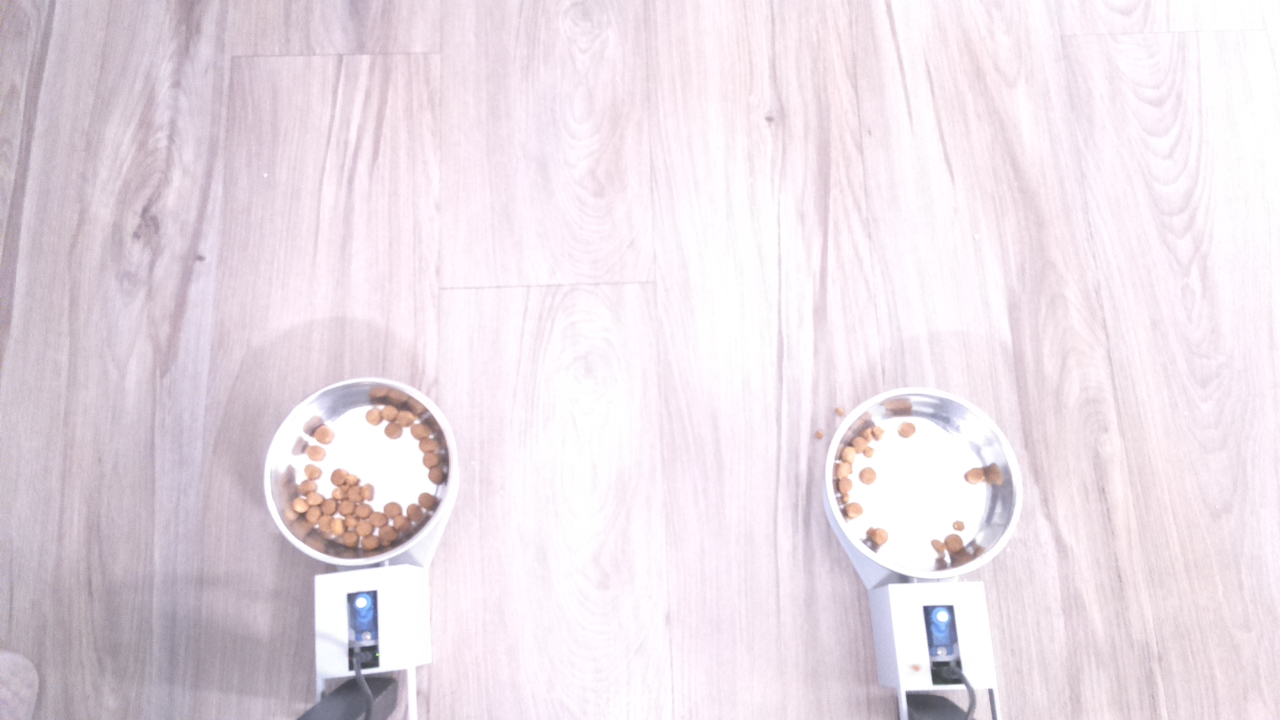open_bowl: (825, 383, 1028, 584), (262, 373, 463, 570)
